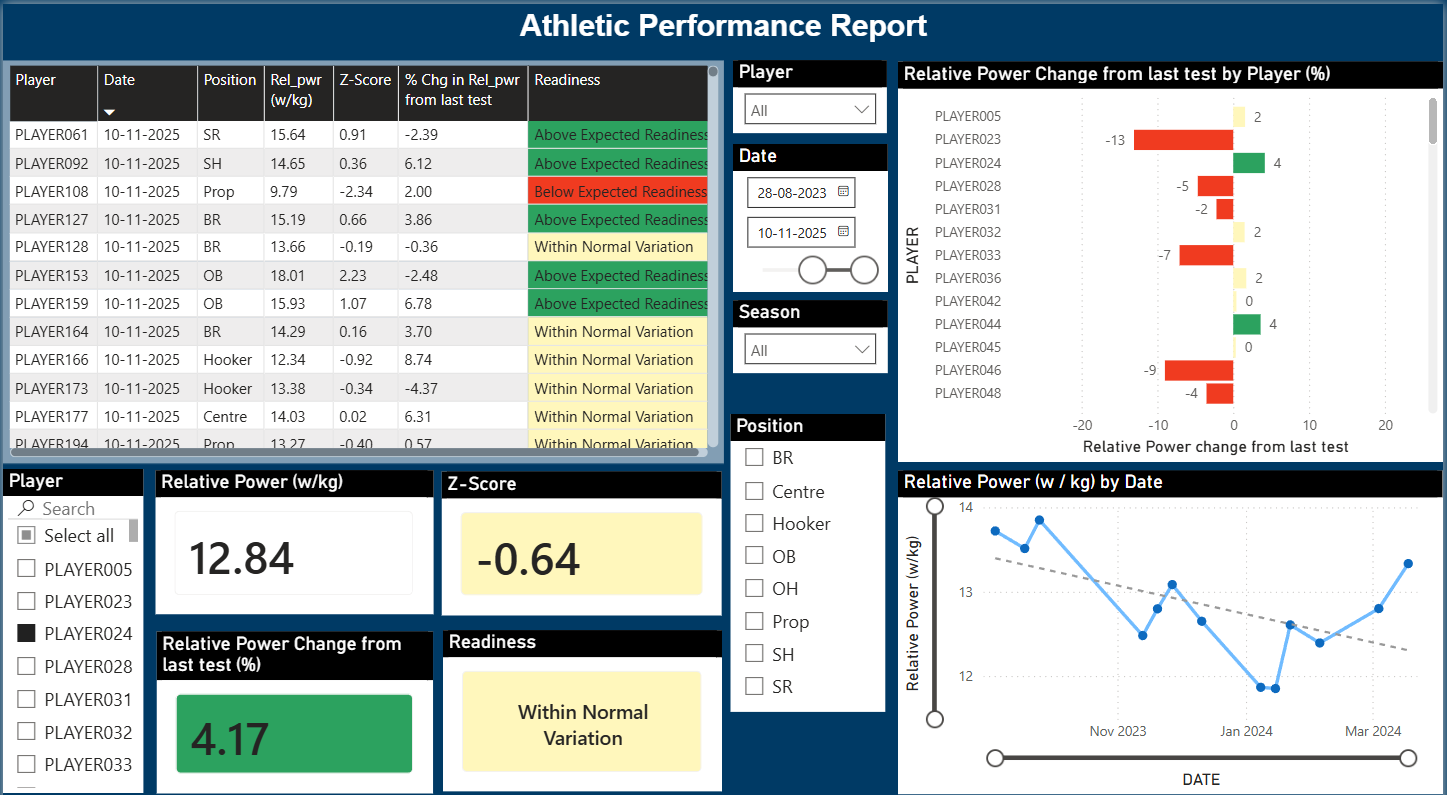

The dashboard page shown, as its layout file describes it:
{"tool":"powerbi","page":{"name":"Performance Report","canvas":[1280,720],"ordinal":0},"visuals":[{"type":"lineChart","title":"Relative Power (w / kg) by Date","fields":{"Y":["Avg(Peak Power Dummy.RELATIVE (w / kg))"],"Category":["Peak Power Dummy.DATE"]},"box":[795.8,414.7,484.2,287.6],"z":0},{"type":"slicer","title":"Player","fields":{"Values":["Peak Power Dummy.PLAYER"]},"box":[649,50.1,136.9,64.6],"z":1000},{"type":"textbox","box":[382.8,0,514.1,50.3],"z":2000},{"type":"tableEx","fields":{"Values":["Peak Power Dummy.PLAYER","Peak Power Dummy.DATE","Peak Power Dummy.POSITION","Peak Power Dummy.RELATIVE (w / kg)","Peak Power Dummy.Z-SCORE","Peak Power Dummy.PctChange_REL_PWR","Peak Power Dummy.Readiness_Flag"]},"box":[0,49.9,640.6,358],"z":3000},{"type":"slicer","title":"Position","fields":{"Values":["Peak Power Dummy.POSITION"]},"box":[647.2,364.3,137.8,264.9],"z":4000},{"type":"slicer","title":"Date","fields":{"Values":["Peak Power Dummy.DATE"]},"box":[649.1,123.9,137.4,131.3],"z":5000},{"type":"clusteredBarChart","title":"Relative Power Change from last test by Player (%)","fields":{"Category":["Peak Power Dummy.PLAYER","Peak Power Dummy.DATE"],"Y":["Peak Power Dummy.% Change From Last Test"]},"box":[795.1,51.5,484.7,355.8],"z":6000},{"type":"slicer","title":"Season","fields":{"Values":["Peak Power Dummy.Season.1"]},"box":[649.1,263.8,137.4,65],"z":7000},{"type":"slicer","title":"Player","fields":{"Values":["Peak Power Dummy.PLAYER"]},"box":[0,413,124.7,288.3],"z":8000},{"type":"cardVisual","title":"Relative Power (w/kg)","fields":{"Data":["Avg(Peak Power Dummy.RELATIVE (w / kg))"]},"box":[135.4,414.7,246.9,128.2],"z":9000},{"type":"cardVisual","title":"Z-Score","fields":{"Data":["Avg(Peak Power Dummy.Z-SCORE)"]},"box":[390.2,416,249.1,127.6],"z":10000},{"type":"cardVisual","title":"Readiness","fields":{"Data":["Peak Power Dummy.Readiness_avg"]},"box":[391.4,557.1,247.9,143.6],"z":11000},{"type":"cardVisual","title":"Relative Power Change from last test (%)","fields":{"Data":["Peak Power Dummy.% Change From Last Test"]},"box":[136.6,557.3,245.7,143.8],"z":12000}]}

Visuals, with their boxes in screenshot pixels (x1, y1, x2, y2), scaled from the page's 1280x720 canvas onto the 1447x795 screenshot:
"Relative Power (w / kg) by Date" lineChart: (900, 458, 1446, 775)
"Player" slicer: (734, 55, 888, 127)
textbox: (433, 0, 1014, 56)
tableEx - Peak Power Dummy.PLAYER x Peak Power Dummy.DATE: (0, 55, 724, 450)
"Position" slicer: (732, 402, 887, 695)
"Date" slicer: (734, 137, 889, 282)
"Relative Power Change from last test by Player (%)" clusteredBarChart: (899, 57, 1446, 450)
"Season" slicer: (734, 291, 889, 363)
"Player" slicer: (0, 456, 141, 774)
"Relative Power (w/kg)" cardVisual: (153, 458, 432, 599)
"Z-Score" cardVisual: (441, 459, 723, 600)
"Readiness" cardVisual: (442, 615, 723, 774)
"Relative Power Change from last test (%)" cardVisual: (154, 615, 432, 774)
